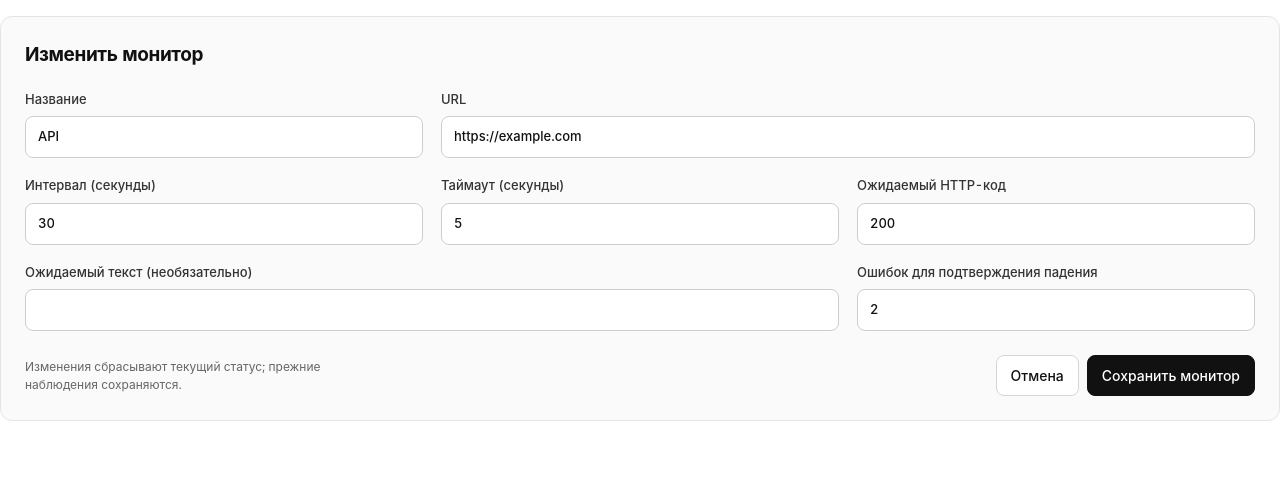
Test case: renders useful field validation errors from FastAPI
This screenshot has width=1280, height=504.
Step 1. Click the button "Сохранить монитор" → {"x": 1171, "y": 376}, box top-left (1087, 355), bottom-right (1255, 396)
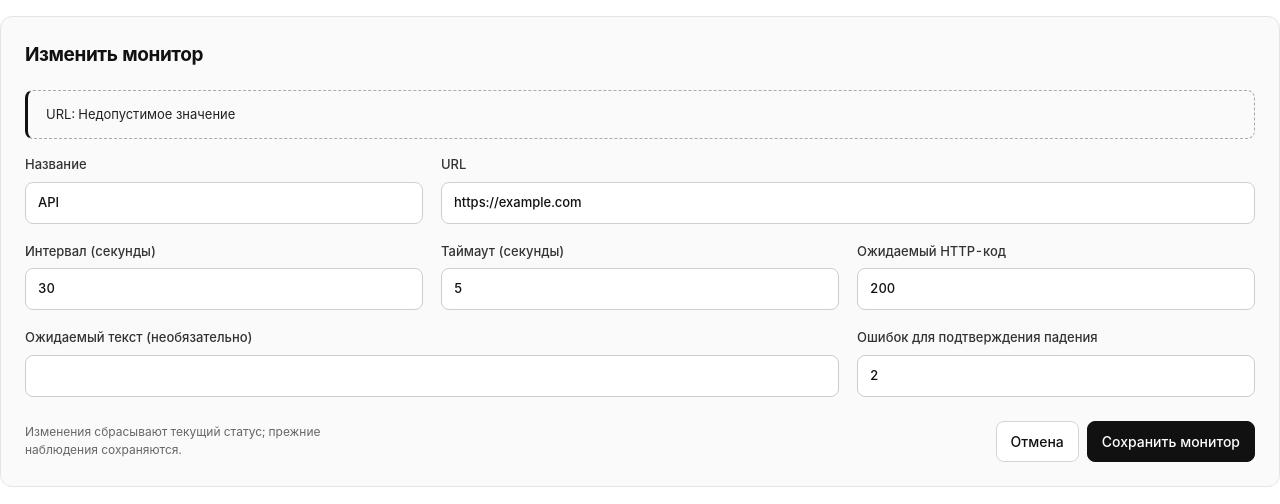
Result: the message reads "URL: Недопустимое значение" at top-left (46, 106), bottom-right (235, 122)
